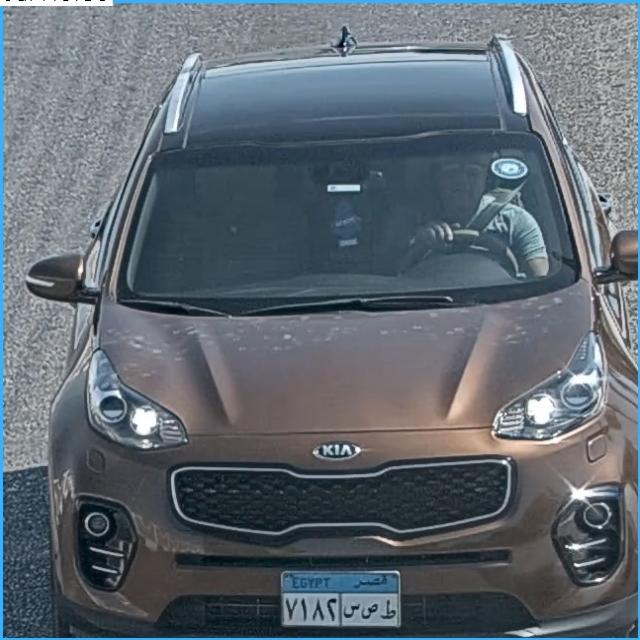windshield: (120, 131, 561, 309)
